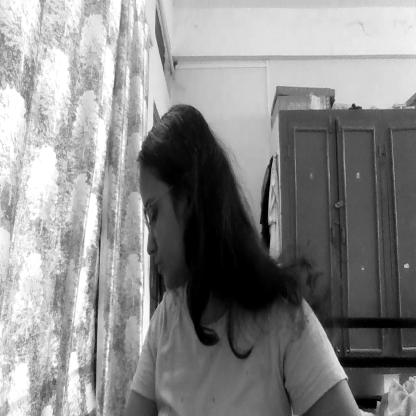Distracted: (132, 107, 241, 300)
